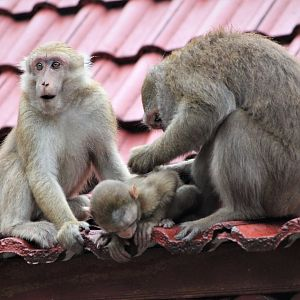monkey: (126, 22, 300, 247), (1, 39, 133, 256), (77, 161, 210, 264)
